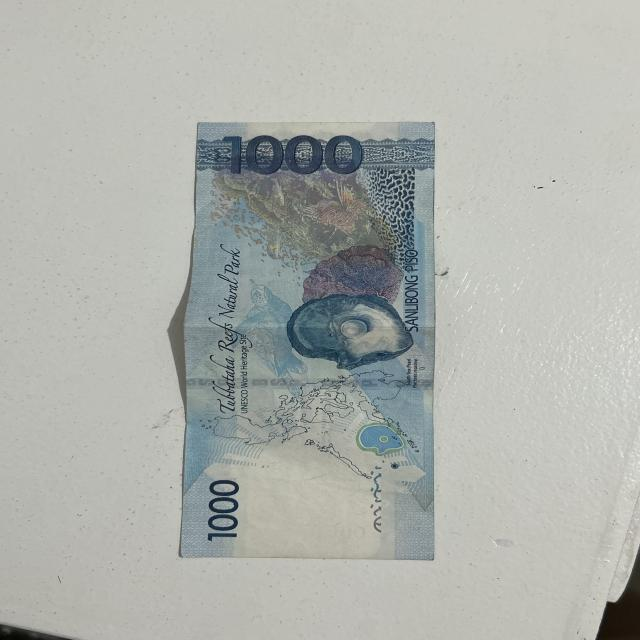1000_pearl: (291, 295, 410, 361)
1000_pearl_watermark: (357, 425, 412, 458)
watermark: (234, 452, 368, 542)
